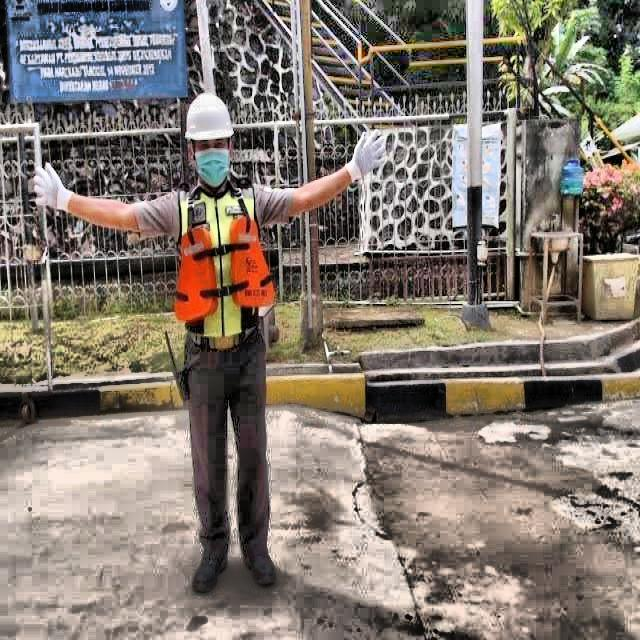safety_jacket: (176, 179, 275, 340)
